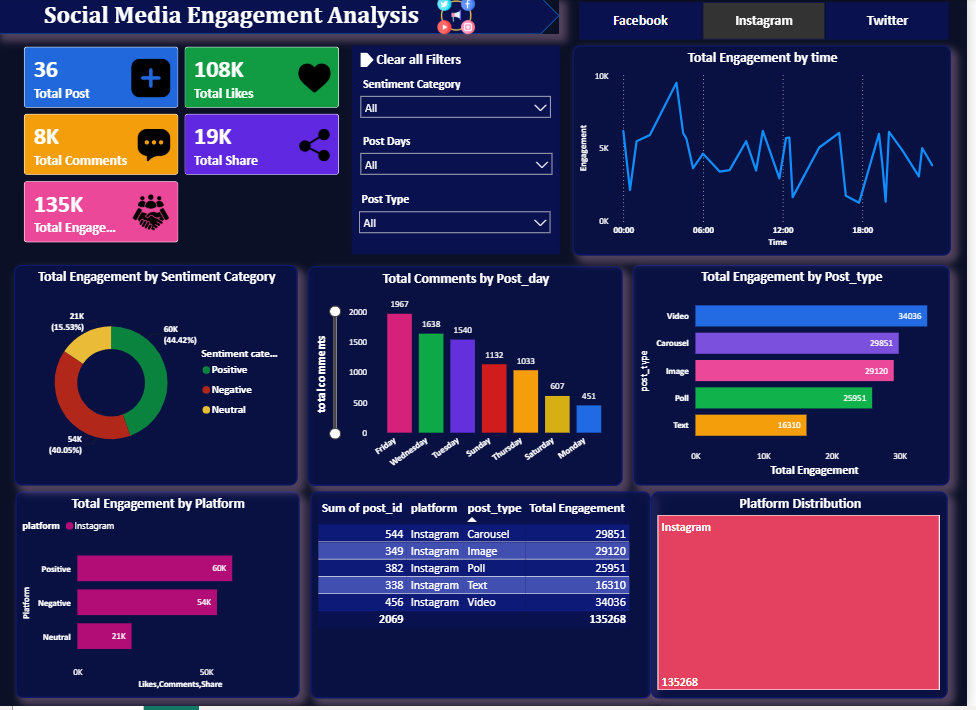

This screenshot's page, from the dashboard's own definition file:
{"tool":"powerbi","page":{"name":"Page 1","canvas":[1300,950],"ordinal":0},"visuals":[{"type":"shape","box":[0,0,753.8,50],"z":0},{"type":"cardVisual","fields":{"Data":["social_media_engagement1.total post","social_media_engagement1.total likes","social_media_engagement1.total comments","social_media_engagement1.total shares","social_media_engagement1.Total Engagement"]},"box":[20,50,456,296],"z":1000},{"type":"donutChart","title":"Total Engagement by Sentiment Category","fields":{"Category":["social_media_engagement1.sentiment_score"],"Y":["social_media_engagement1.Total Engagement"]},"box":[22,358,379.7,295.1],"z":2000,"group":"g1"},{"type":"clusteredBarChart","title":"Total Engagement by Platform","fields":{"Y":["social_media_engagement1.Total Engagement"],"Category":["social_media_engagement1.sentiment_score"],"Series":["social_media_engagement1.platform"]},"box":[25.6,663.3,380,276.7],"z":2000},{"type":"slicer","fields":{"Values":["social_media_engagement1.platform"]},"box":[755,0,545,63.8],"z":3000},{"type":"barChart","title":"Total Engagement by Post_type","fields":{"Category":["social_media_engagement1.post_type"],"Y":["social_media_engagement1.Total Engagement"]},"box":[850.3,358,424.5,295.1],"z":3000,"group":"g1"},{"type":"group","id":"g1","title":"Group 2","box":[22,74,1252.9,579.7],"z":4000},{"type":"columnChart","title":"Total Comments by Post_day","fields":{"Category":["social_media_engagement1.post_day"],"Y":["social_media_engagement1.total comments"]},"box":[415.3,359.9,421.4,293.8],"z":4000,"group":"g1"},{"type":"lineChart","fields":{"Category":["social_media_engagement1.time"],"Y":["social_media_engagement1.Total Engagement"]},"box":[771.8,64.3,506.5,281.4],"z":5000},{"type":"slicer","fields":{"Values":["social_media_engagement1.post_day"]},"box":[477.6,176.4,276.5,89.7],"z":5000,"group":"g2"},{"type":"textbox","box":[38.6,0,551.5,49.8],"z":6000},{"type":"group","id":"g2","title":"Group 3","box":[476,64.3,278.2,281.4],"z":7000},{"type":"slicer","fields":{"Values":["social_media_engagement1.post_type"]},"box":[476,255.1,276.2,90],"z":7000,"group":"g2"},{"type":"slicer","fields":{"Values":["social_media_engagement1.sentiment_score"]},"box":[477.6,101.3,274.5,91.8],"z":8000,"group":"g2"},{"type":"tableEx","title":"Top 5 Performing Posts","fields":{"Values":["Sum(social_media_engagement1.post_id)","social_media_engagement1.platform","social_media_engagement1.post_type","social_media_engagement1.Total Engagement"]},"box":[420.1,662.6,456.4,276.9],"z":8000},{"type":"shape","box":[487.1,74,18.2,19.4],"z":9000,"group":"g2"},{"type":"treemap","title":"Platform Distribution","fields":{"Group":["social_media_engagement1.platform"],"Values":["social_media_engagement1.Total Engagement"]},"box":[876.5,662.6,397.2,276.9],"z":9000},{"type":"actionButton","box":[648,74,100,40],"z":9002,"group":"g1"},{"type":"image","box":[562.5,0,103.8,50],"z":10000},{"type":"actionButton","box":[504.3,64.3,178.1,36.7],"z":10000,"group":"g2"}]}

Visuals, with their boxes in screenshot pixels (x1, y1, x2, y2), scaled from the page's 1300x950 canvas onto the 976x710 screenshot:
shape: pyautogui.locateOnScreen(0, 0, 566, 37)
cardVisual - social_media_engagement1.total post x social_media_engagement1.total likes: pyautogui.locateOnScreen(15, 37, 357, 259)
"Total Engagement by Sentiment Category" donutChart: pyautogui.locateOnScreen(17, 268, 302, 488)
"Total Engagement by Platform" clusteredBarChart: pyautogui.locateOnScreen(19, 496, 305, 703)
slicer - social_media_engagement1.platform: pyautogui.locateOnScreen(567, 0, 975, 48)
"Total Engagement by Post_type" barChart: pyautogui.locateOnScreen(638, 268, 957, 488)
"Group 2" group: pyautogui.locateOnScreen(17, 55, 957, 489)
"Total Comments by Post_day" columnChart: pyautogui.locateOnScreen(312, 269, 628, 489)
lineChart - social_media_engagement1.time x social_media_engagement1.Total Engagement: pyautogui.locateOnScreen(579, 48, 960, 258)
slicer - social_media_engagement1.post_day: pyautogui.locateOnScreen(359, 132, 566, 199)
textbox: pyautogui.locateOnScreen(29, 0, 443, 37)
"Group 3" group: pyautogui.locateOnScreen(357, 48, 566, 258)
slicer - social_media_engagement1.post_type: pyautogui.locateOnScreen(357, 191, 565, 258)
slicer - social_media_engagement1.sentiment_score: pyautogui.locateOnScreen(359, 76, 565, 144)
"Top 5 Performing Posts" tableEx: pyautogui.locateOnScreen(315, 495, 658, 702)
shape: pyautogui.locateOnScreen(366, 55, 379, 70)
"Platform Distribution" treemap: pyautogui.locateOnScreen(658, 495, 956, 702)
actionButton: pyautogui.locateOnScreen(486, 55, 562, 85)
image: pyautogui.locateOnScreen(422, 0, 500, 37)
actionButton: pyautogui.locateOnScreen(379, 48, 512, 75)
